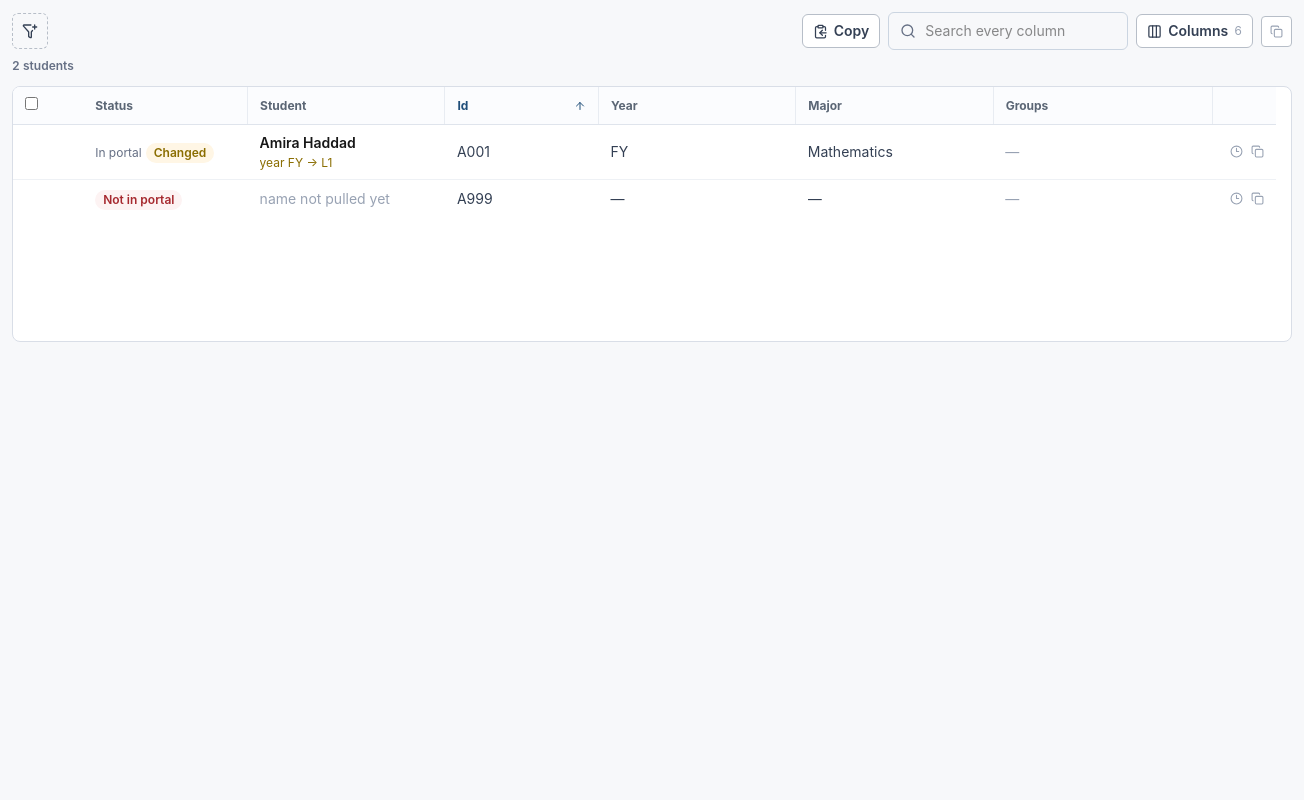
Scenario: StudentRoster › the history panel › shows the history on a page that is looking at a cohort rather than a view
The image size is (1304, 800).
Expected: the text "Amira Haddad" is shown, top-left (260, 134), bottom-right (356, 151)
Click the button named "History for Amira Haddad": (1236,152) top-left (1226, 141), bottom-right (1247, 162)
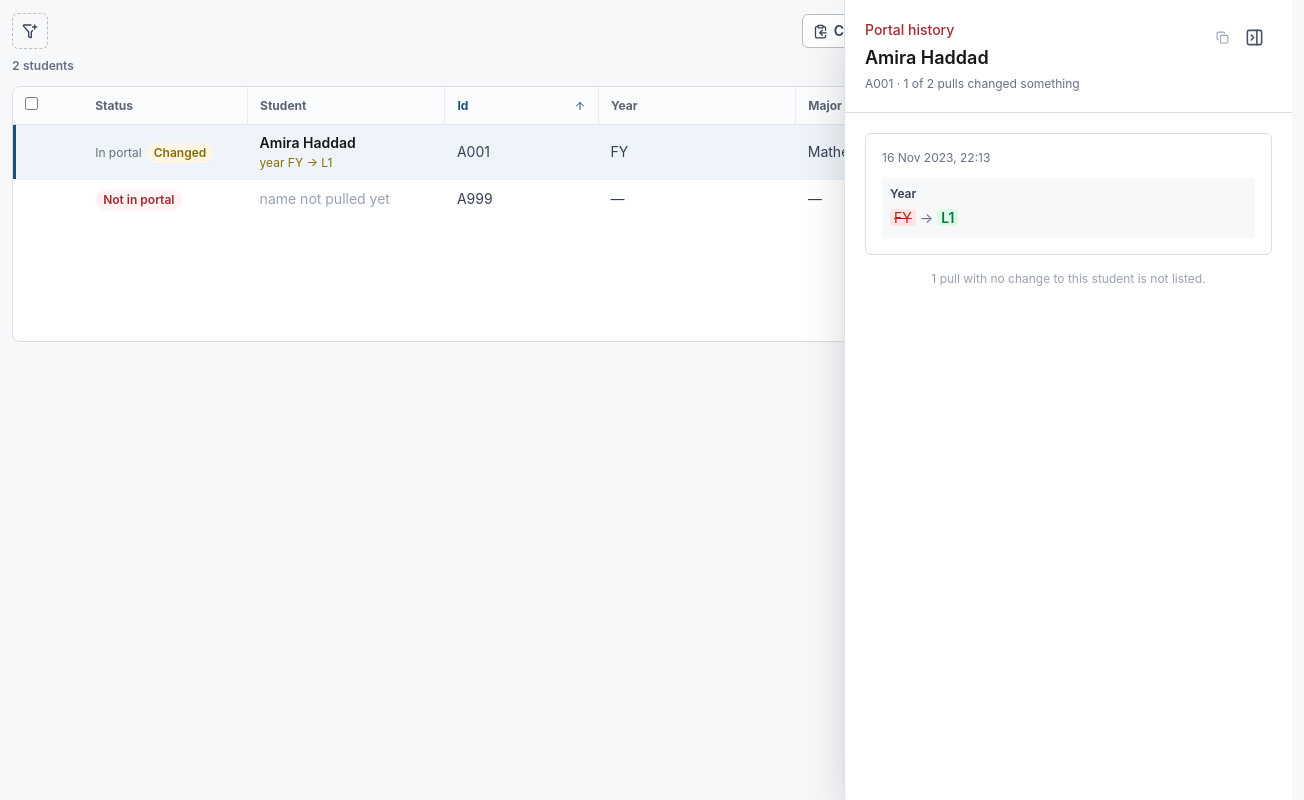
Now the text "A001 · 1 of 2 pulls changed something" is shown, box top-left (865, 76), bottom-right (1080, 92)
Now the text "L1" is shown, box top-left (937, 209), bottom-right (958, 226)
